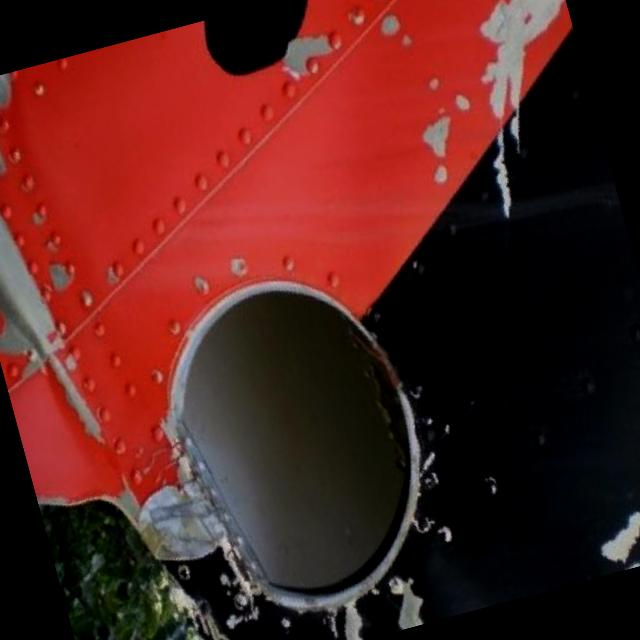crack: (440, 0, 618, 231), (379, 557, 434, 630)
